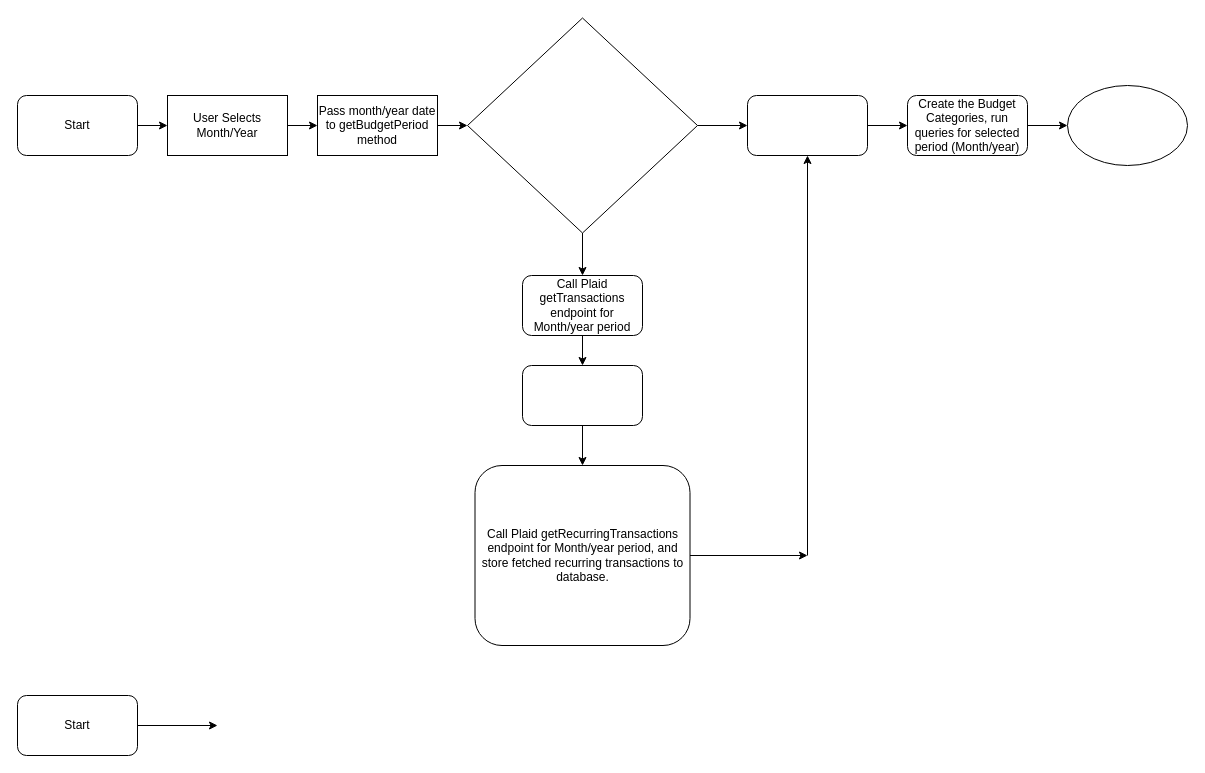
The diagram is 1205 pixels wide and 773 high, and some of its shapes have lost their labels. The centre of each missing label's shape, as x and y in pixels:
"End" belongs at point 1127,125.
"If the Month/year period is found in the database" belongs at point 582,125.
"Load and Categorize Transactions (CategoryRuleEngine)" belongs at point 807,125.
"Store fetched plaid transactions to database" belongs at point 582,395.
